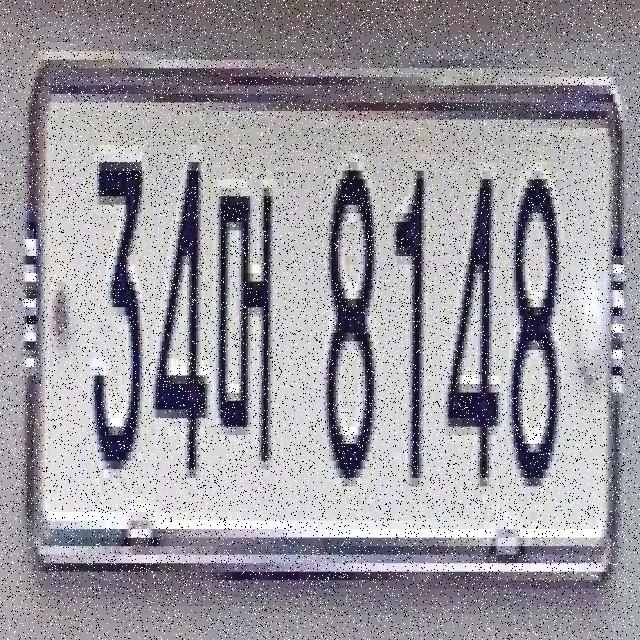licenseplate: (24, 46, 626, 568)
